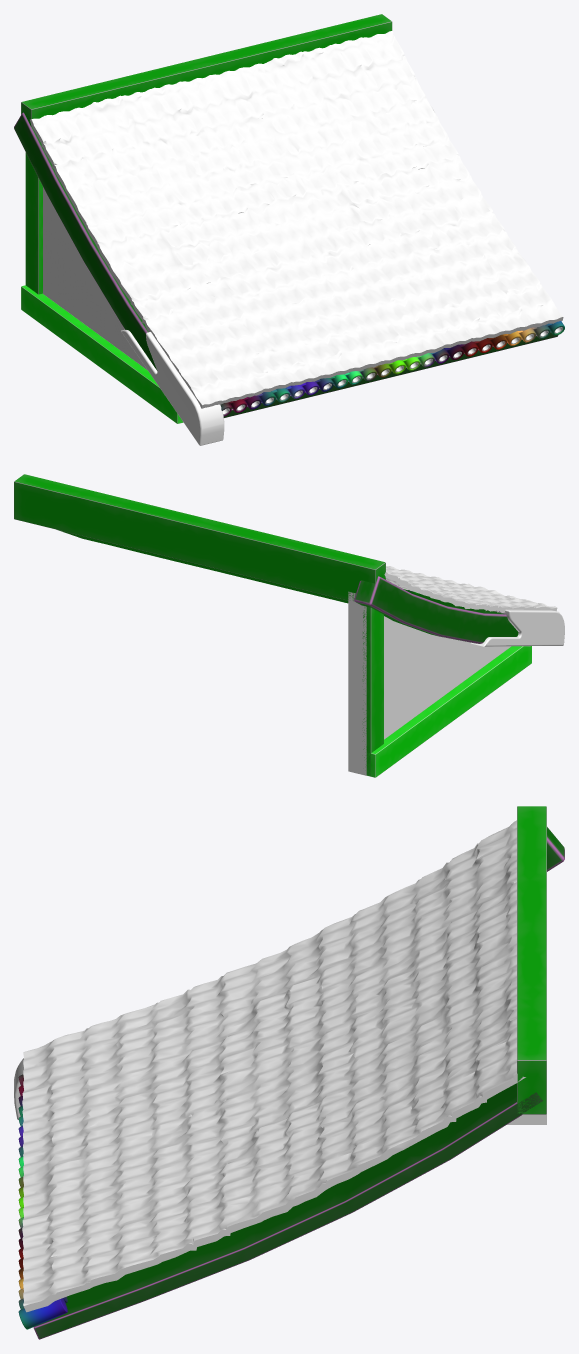
Rendered from roof_side_400x300_01_left.fbx.
3 renders of one model, top to bottom at view 1: azimuth 30°, elevation 25°; view 2: azimuth 150°, elevation 25°; view 3: azimuth 270°, elevation 25°, orthographic. The views are drawn at different scales.
Visible parts, largest first — view 1: roof_side_400x300_01_left; view 2: roof_side_400x300_01_left; view 3: roof_side_400x300_01_left.
Part boxes in pixels (left/top/right/bottom): roof_side_400x300_01_left: left=14, top=14, right=564, bottom=445; roof_side_400x300_01_left: left=14, top=474, right=564, bottom=777; roof_side_400x300_01_left: left=14, top=806, right=564, bottom=1339.
Size of the model in its own units: 4.07 by 2.21 by 3.66.
